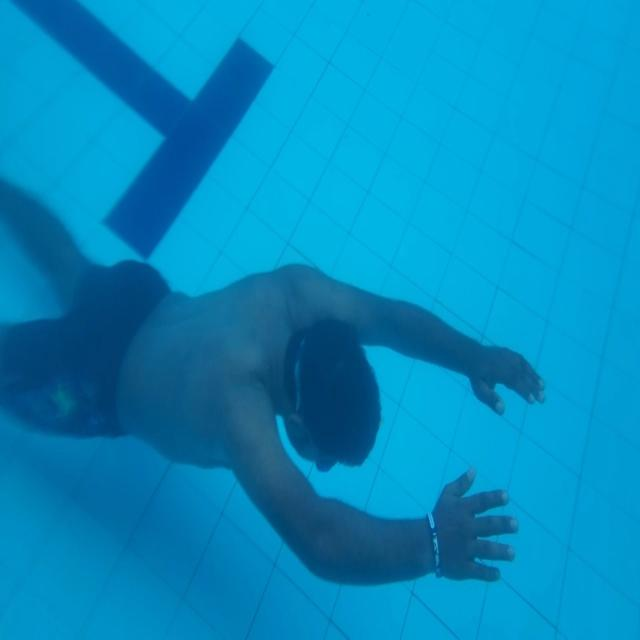Drowning: (0, 178, 547, 586)
